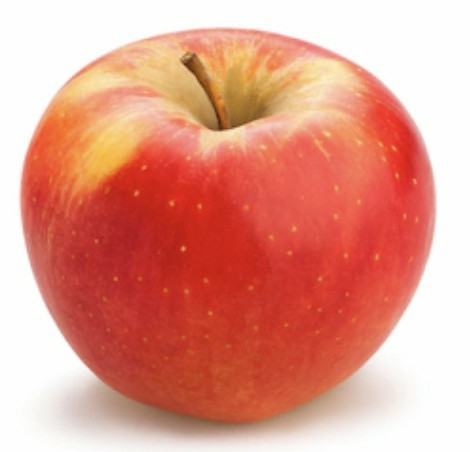normal_apple: (19, 28, 441, 420)
